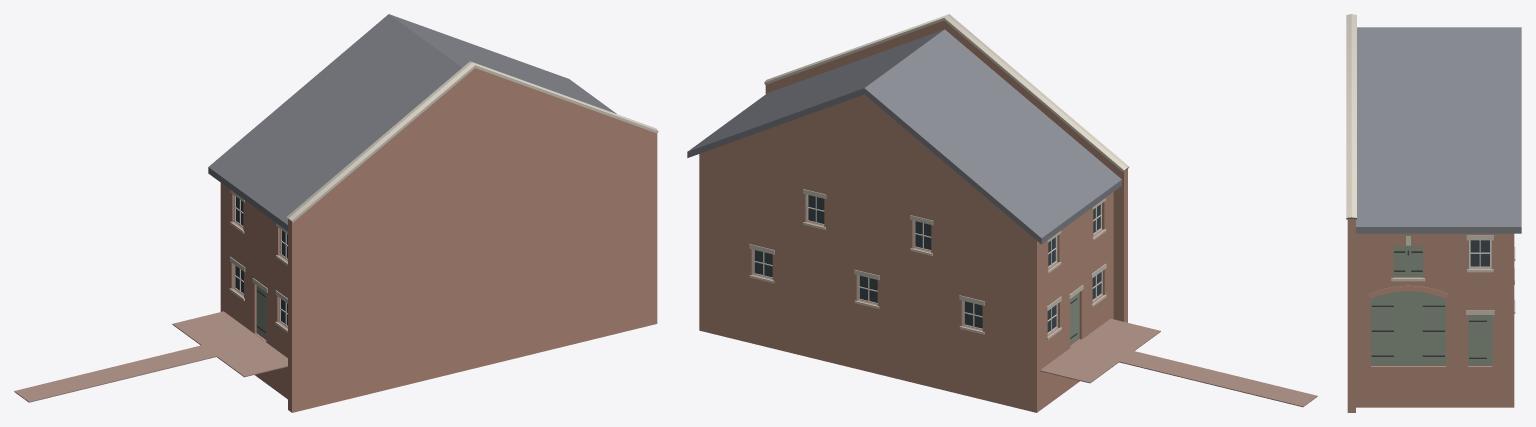
The model's file is house_2001_prairie_coach_house__as_standing_1904.glb.
3 renders of one model, left to right at view 1: azimuth 30°, elevation 25°; view 2: azimuth 150°, elevation 25°; view 3: azimuth 270°, elevation 25°, orthographic. The views are drawn at different scales.
Visible parts, largest first — view 1: house_2001_prairie_coach_house__as_standing_1904; view 2: house_2001_prairie_coach_house__as_standing_1904; view 3: house_2001_prairie_coach_house__as_standing_1904.
Boxes of the visible parts, x1,y1,x2,y2 form: house_2001_prairie_coach_house__as_standing_1904: (14,14,658,412); house_2001_prairie_coach_house__as_standing_1904: (687,14,1317,412); house_2001_prairie_coach_house__as_standing_1904: (1346,14,1521,412).
Size of the model in its own units: 28.14 by 13.62 by 7.01.
